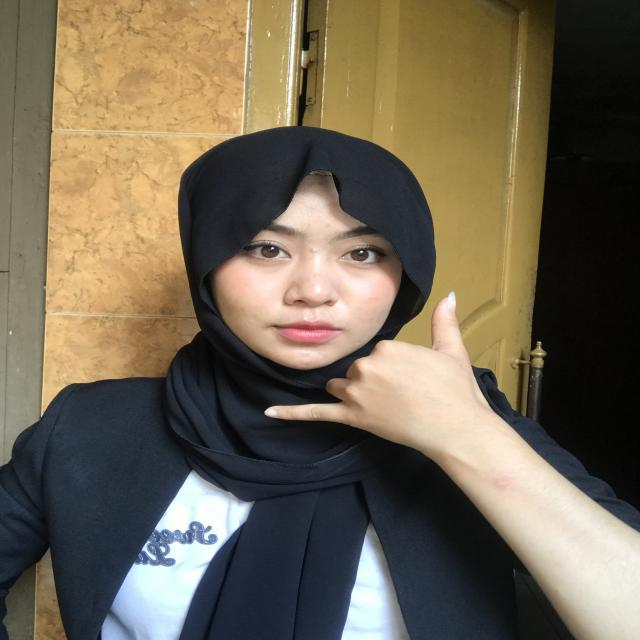telpon: (260, 274, 488, 487)
